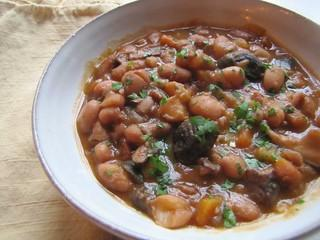RajmaCurry: (75, 28, 320, 229)
